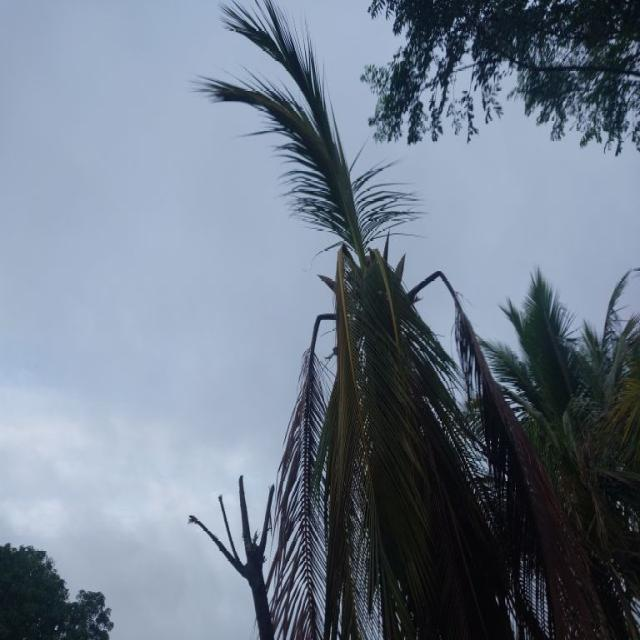bud root dropping: (201, 3, 615, 638)
